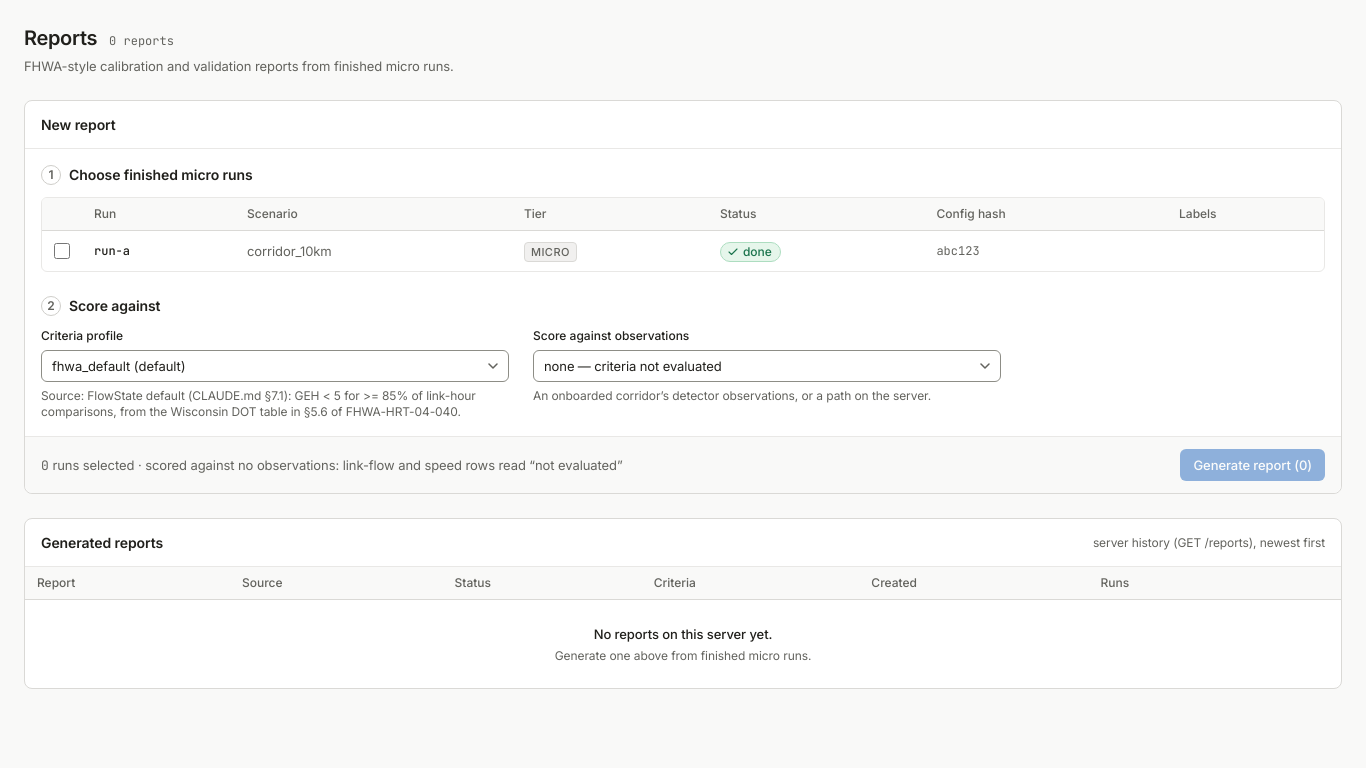
Test: ReportsView (asynchronous report contract) › sends the chosen profile with POST /reports and names it on the row
Select "txdot_tsap_ch13" in the dropdown labelled "Criteria profile" at {"x": 275, "y": 366}, box [41, 350, 509, 382]
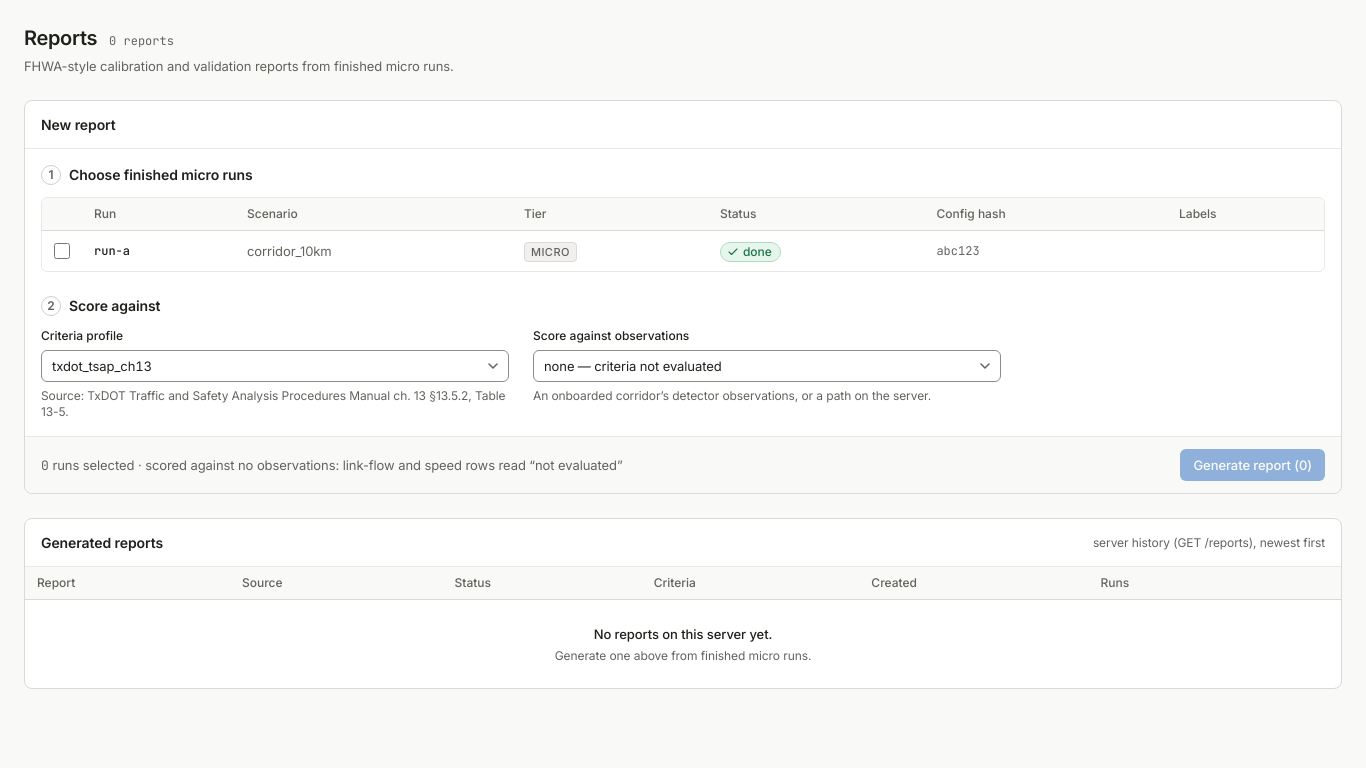
Click the checkbox named "select run-a" at {"x": 62, "y": 251}, box [54, 243, 70, 259]
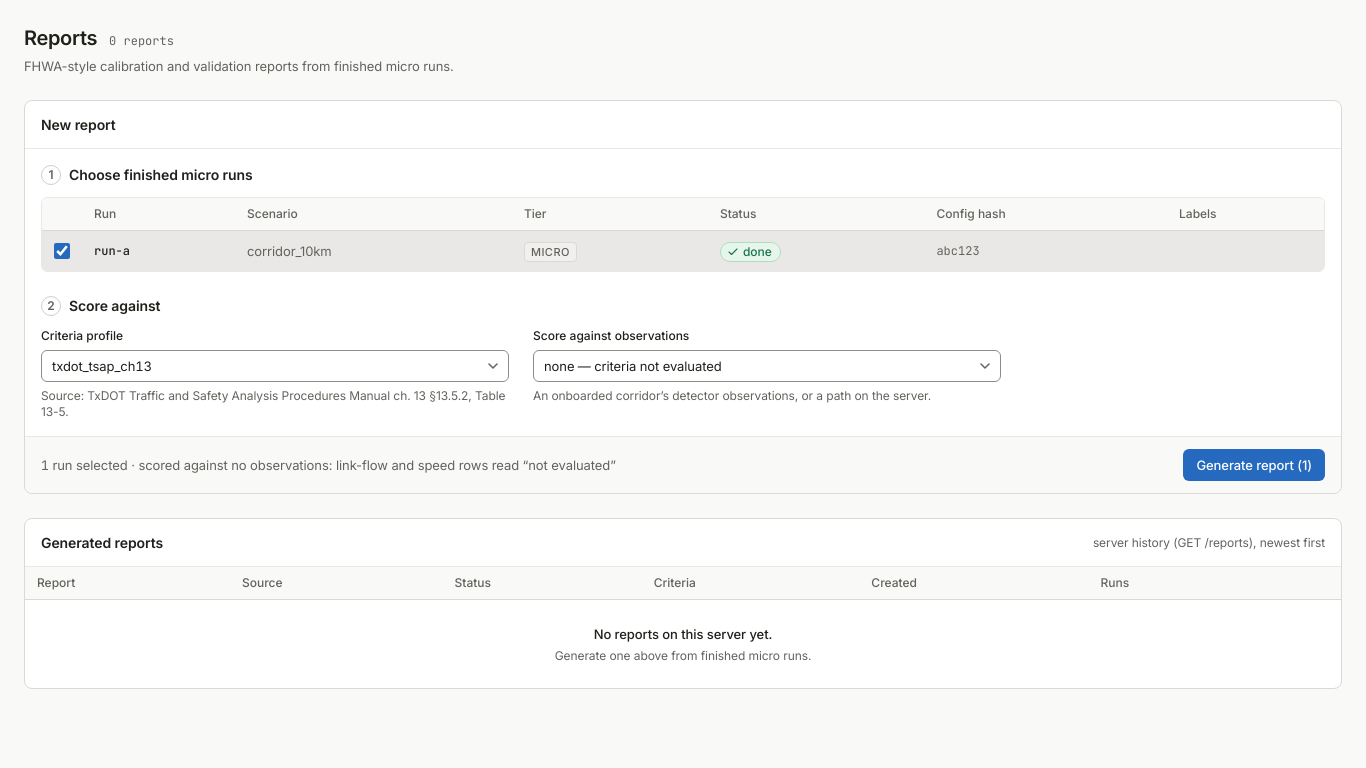
Click the button "Generate report (1)" at {"x": 1254, "y": 465}, box [1183, 449, 1325, 481]
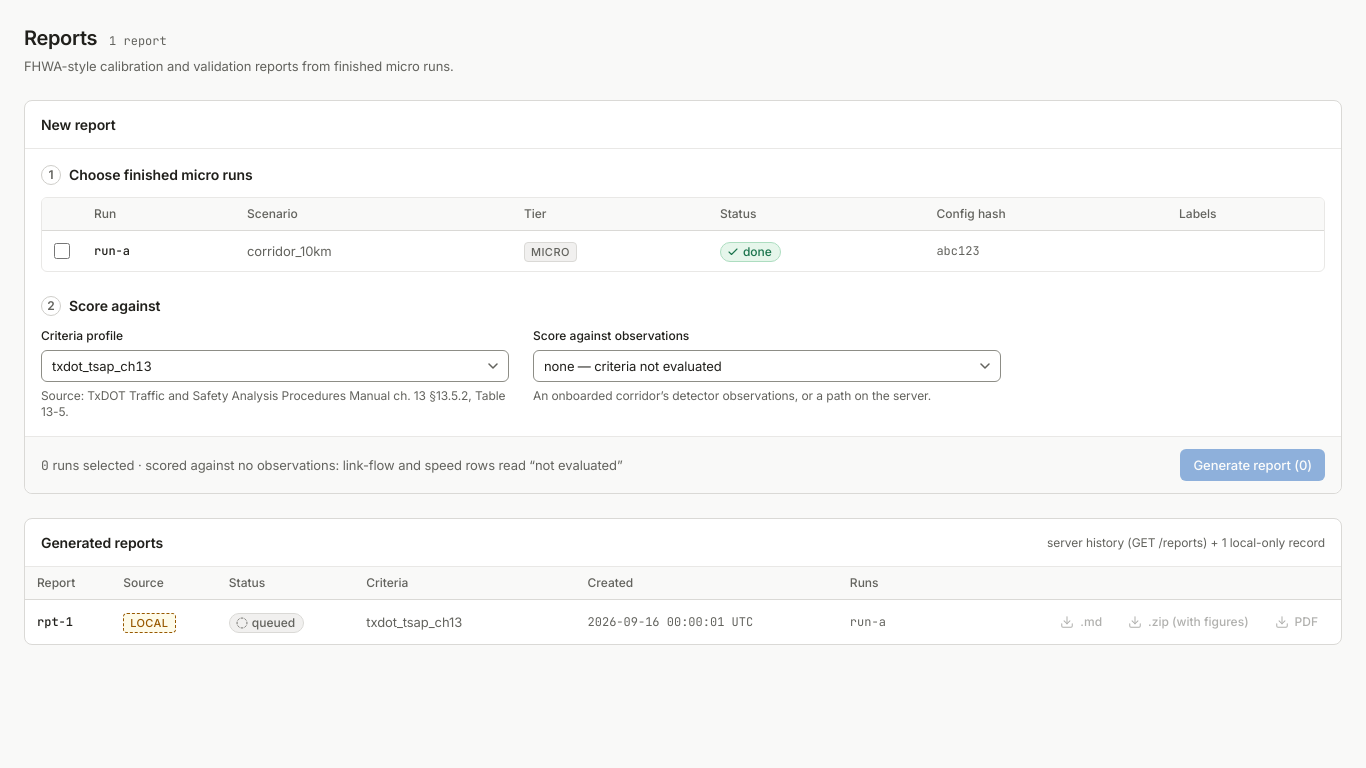
Result: the text "rpt-1" is shown at [25, 600, 111, 644]
Result: the text "txdot_tsap_ch13" is shown at [366, 614, 462, 630]
